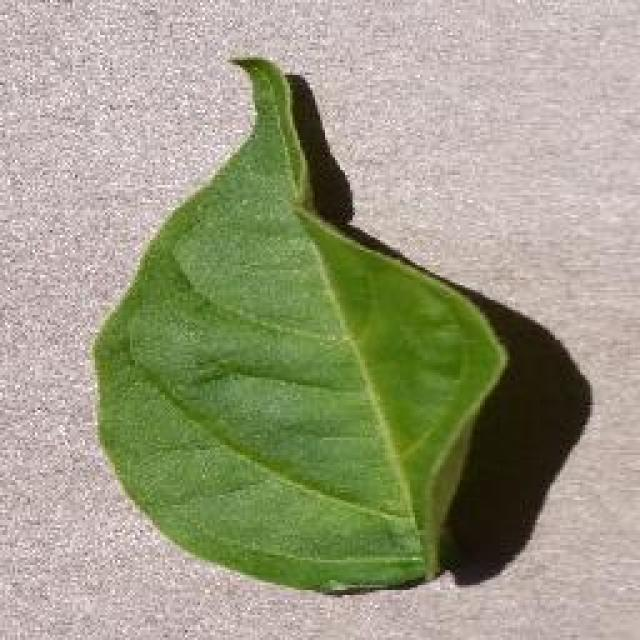Leaf: (58, 50, 573, 598)
